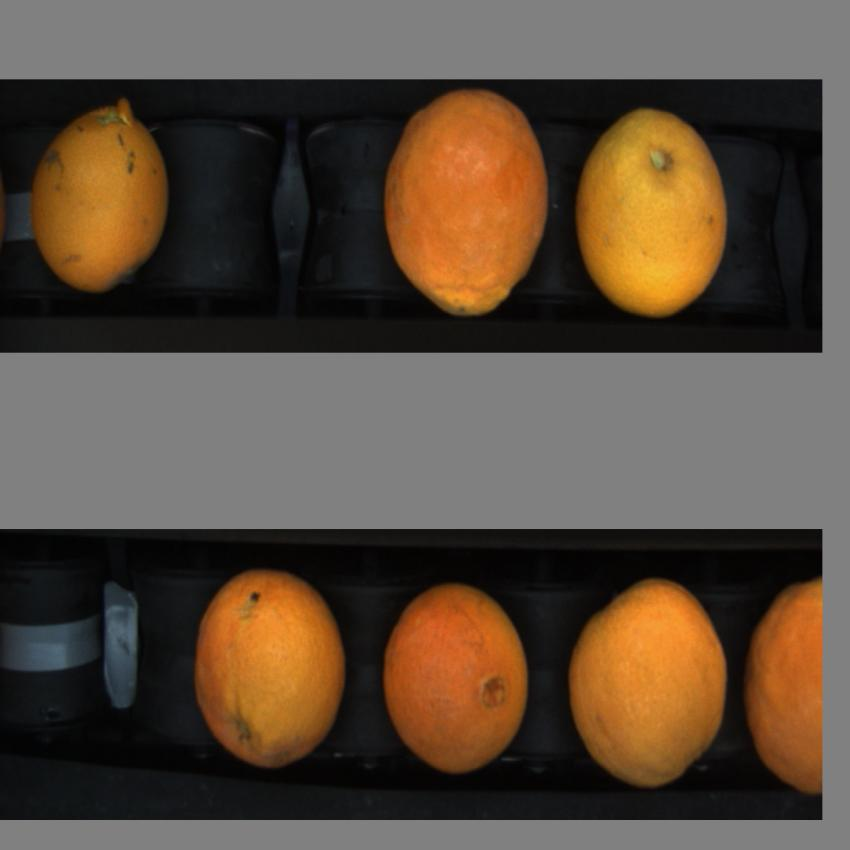Buen estado: (568, 107, 744, 324), (565, 566, 730, 790), (28, 101, 176, 300), (746, 574, 822, 796)
Mal estado: (382, 84, 550, 319), (186, 563, 356, 775), (378, 579, 538, 785)
